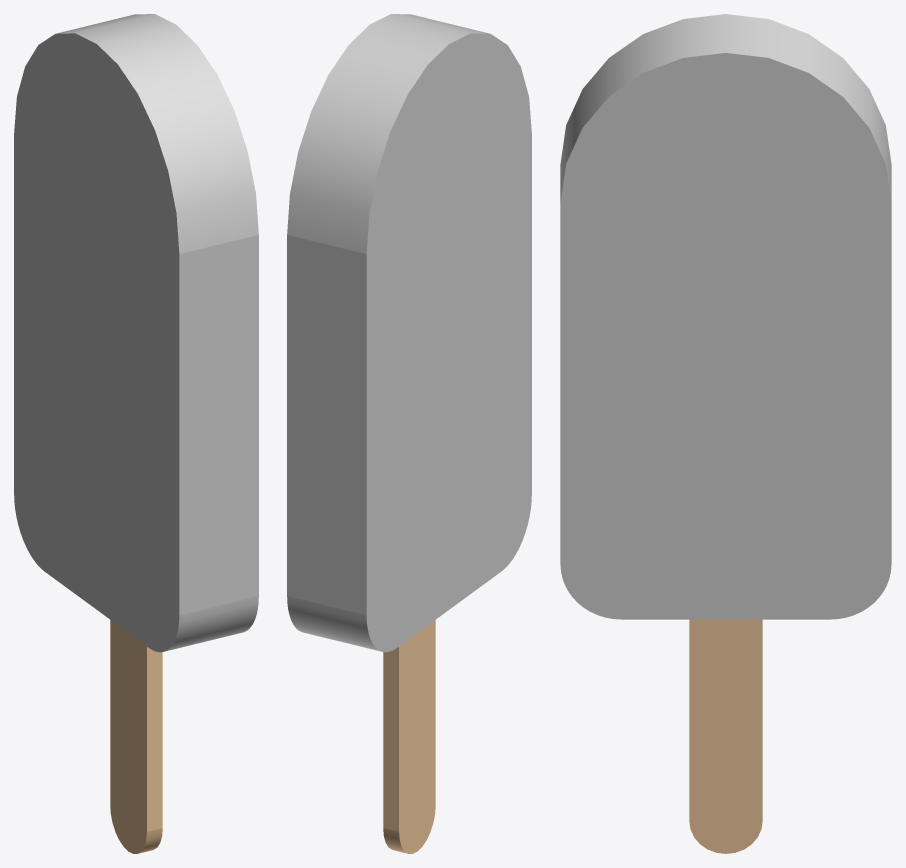
Rendered from popsicle_white.fbx.
3 views of the same model, side by side, from view 1: azimuth 30°, elevation 25°; view 2: azimuth 150°, elevation 25°; view 3: azimuth 270°, elevation 25° (orthographic).
Parts seen in each view (by area): view 1: popsicle; view 2: popsicle; view 3: popsicle.
Boxes of the visible parts, <box> form: popsicle: <box>14,14,258,853</box>; popsicle: <box>287,14,531,853</box>; popsicle: <box>560,14,891,853</box>.
Bounding box in the file's own units: 5 × 49 × 18.
